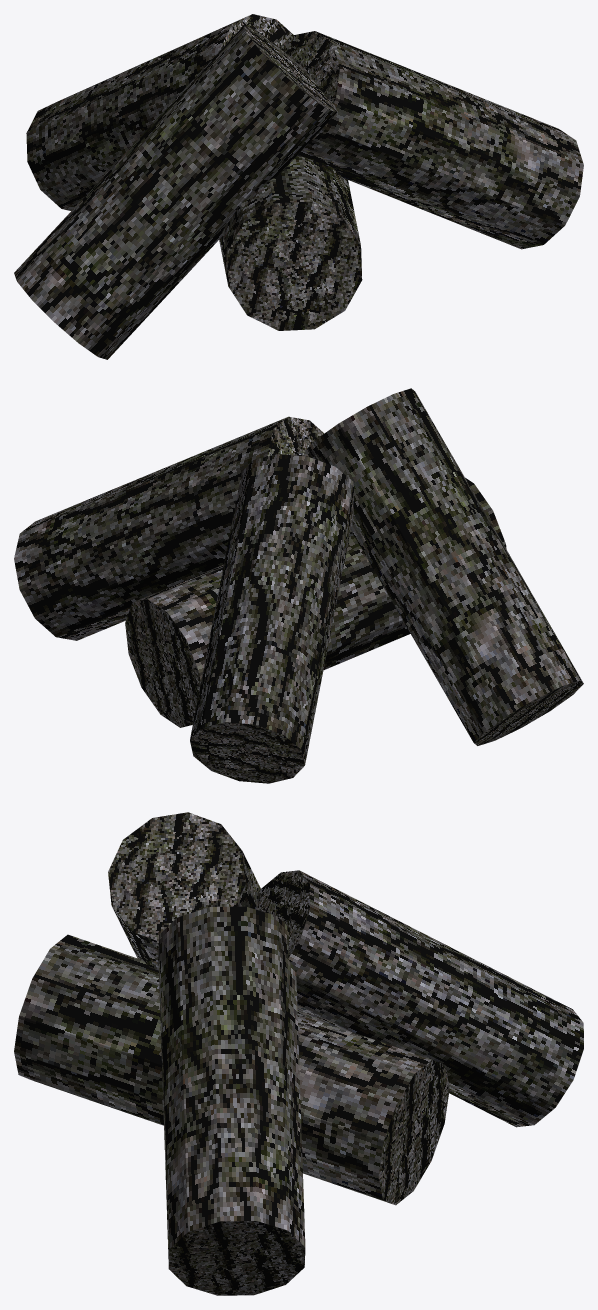
File: campfire.glb
3 renders of one model, top to bottom at view 1: azimuth 30°, elevation 25°; view 2: azimuth 150°, elevation 25°; view 3: azimuth 270°, elevation 25°, orthographic. The views are drawn at different scales.
Parts seen in each view (by area): view 1: campfire; view 2: campfire; view 3: campfire.
Boxes of the visible parts, x1,y1,x2,y2 form: campfire: (14, 14, 583, 359); campfire: (14, 388, 583, 783); campfire: (14, 812, 583, 1295).
Size of the model in its own units: 1.98 by 1.05 by 1.62.
1 material, 1 textured.
